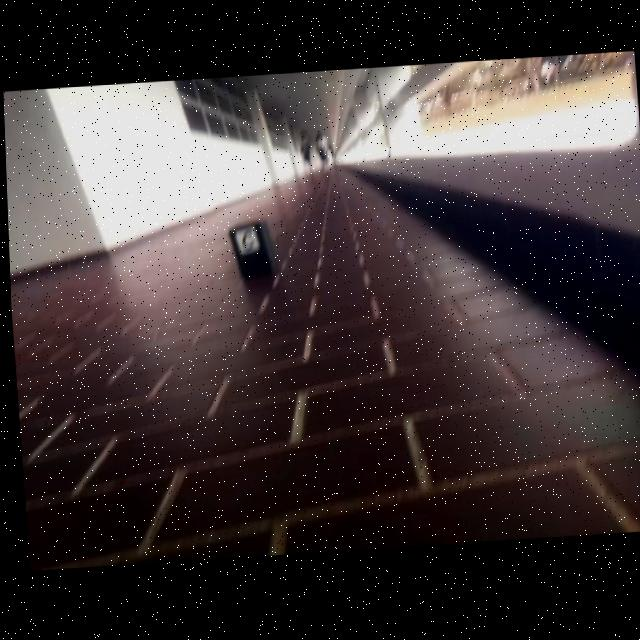C: (239, 228, 252, 256)
